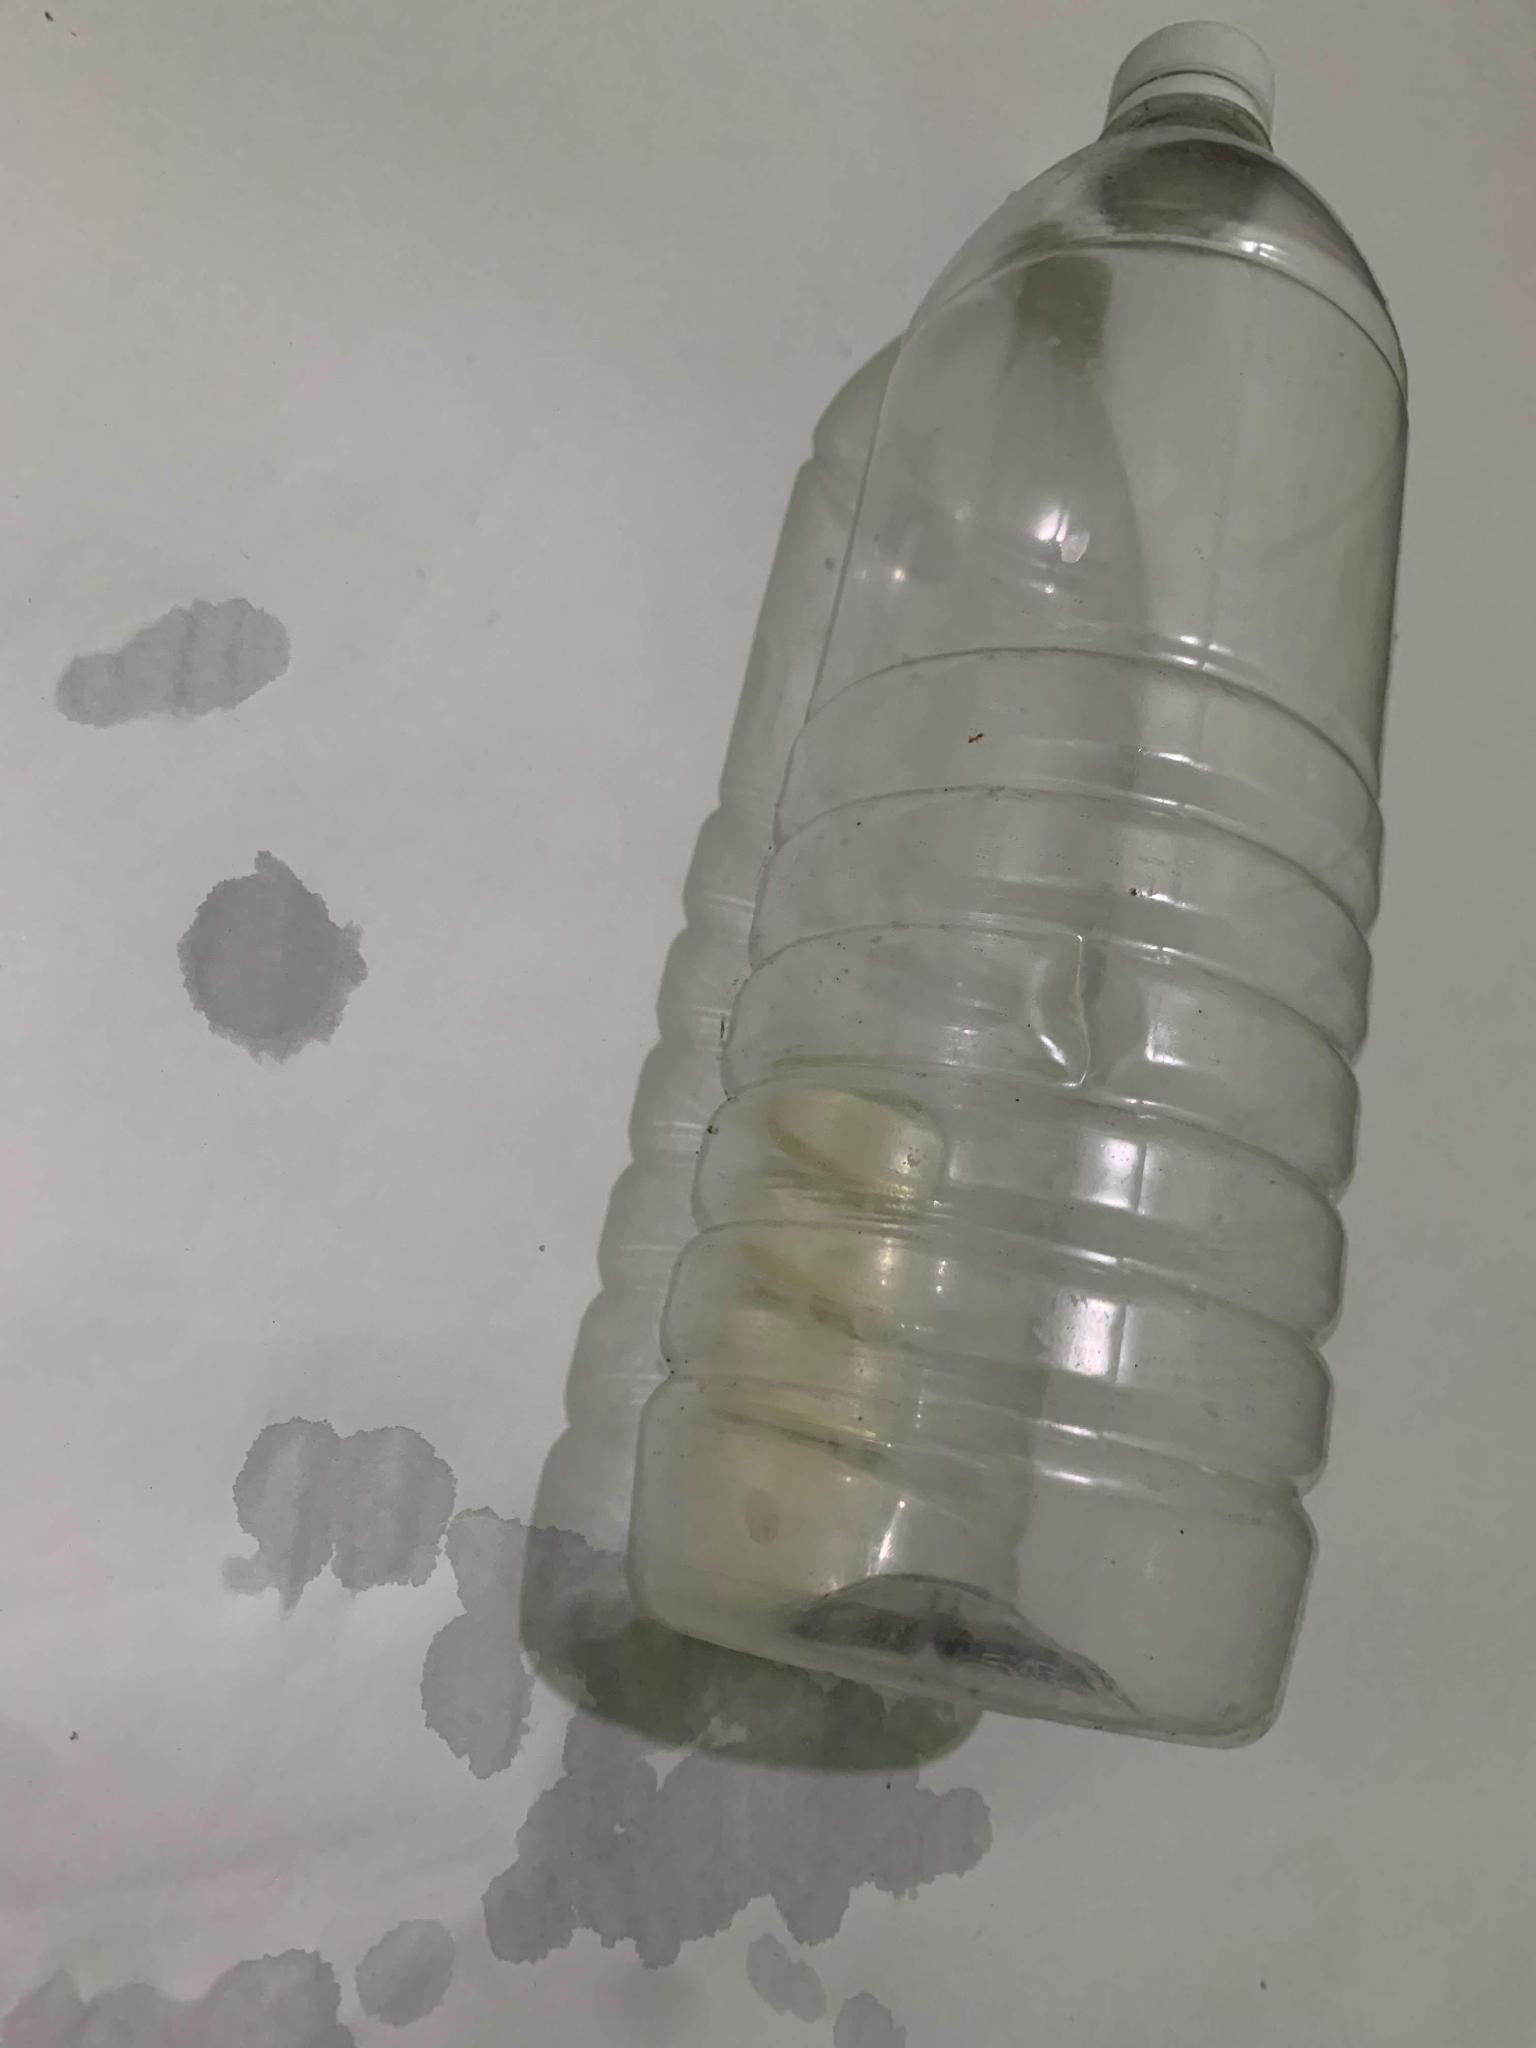bottle: (601, 0, 1434, 1766)
